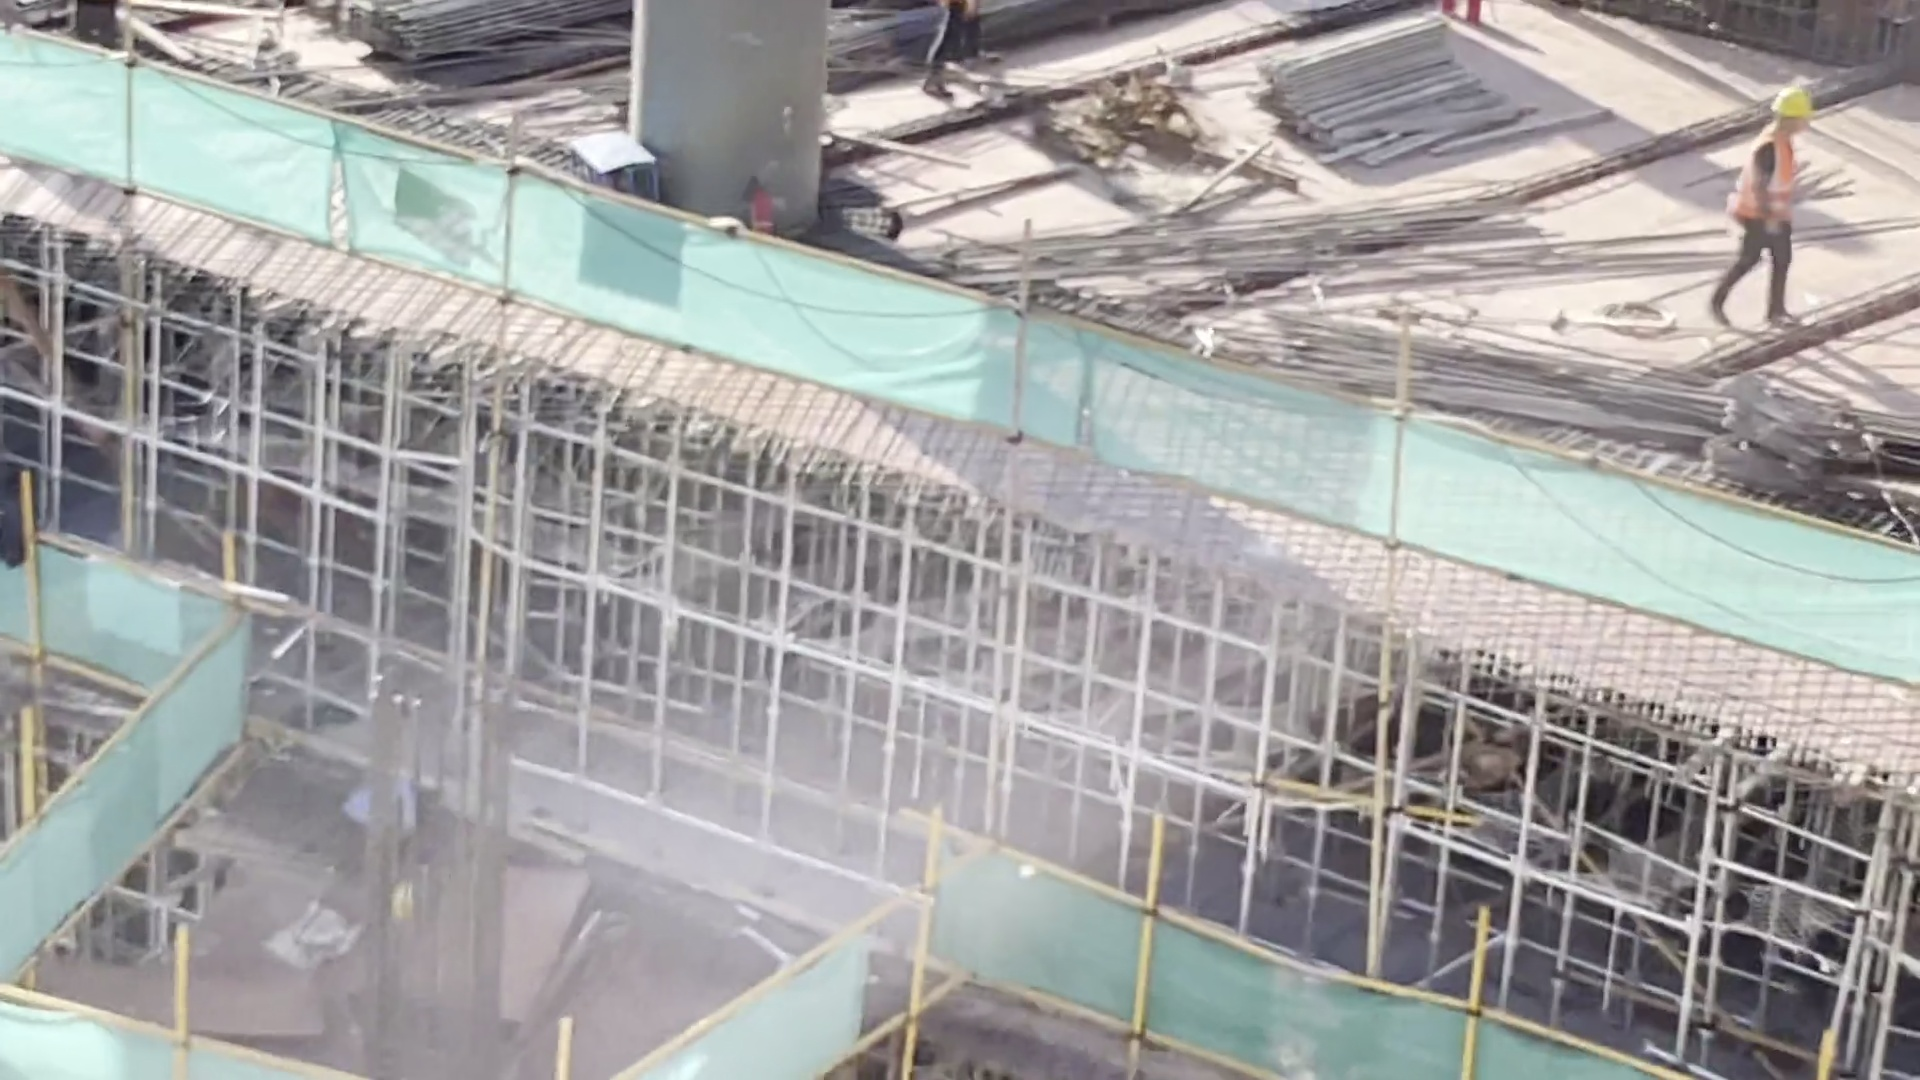helmet: (1774, 86, 1815, 133)
person: (1707, 78, 1823, 358)
vest: (1735, 131, 1816, 235)
wood: (1254, 5, 1508, 163)
